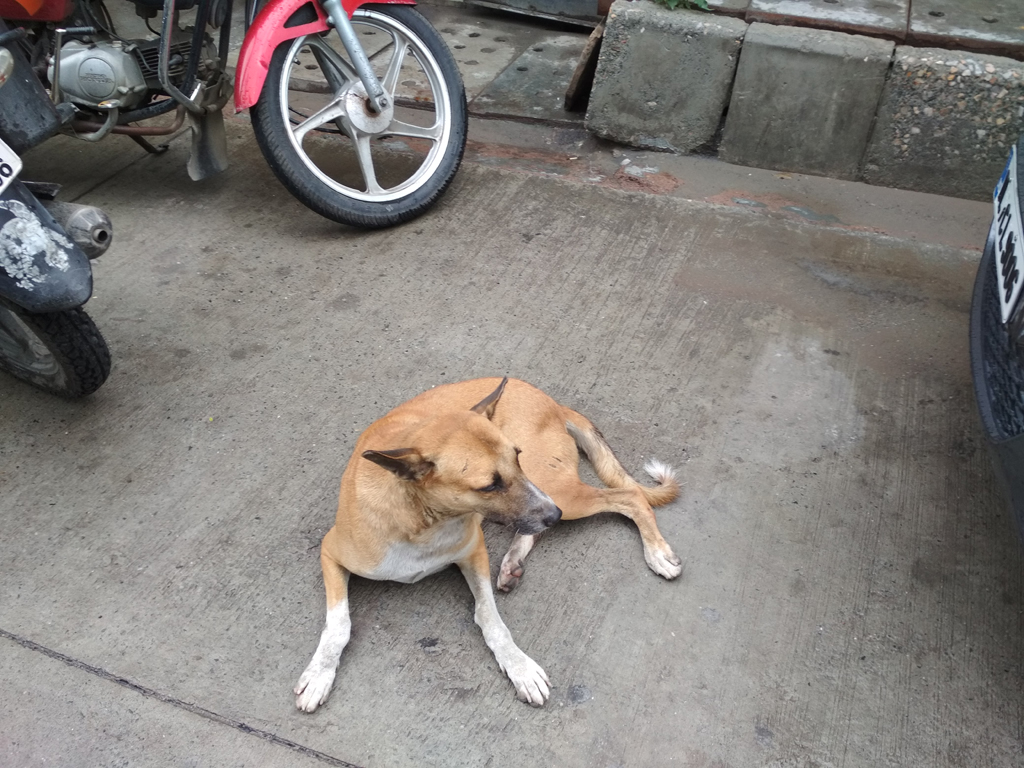dog: (292, 376, 679, 713)
